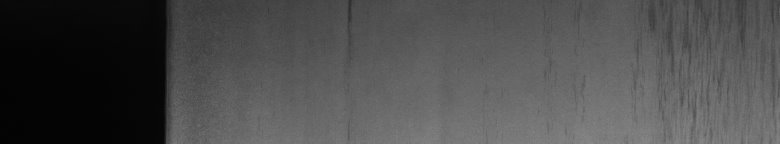ka: (650, 16, 744, 120)
